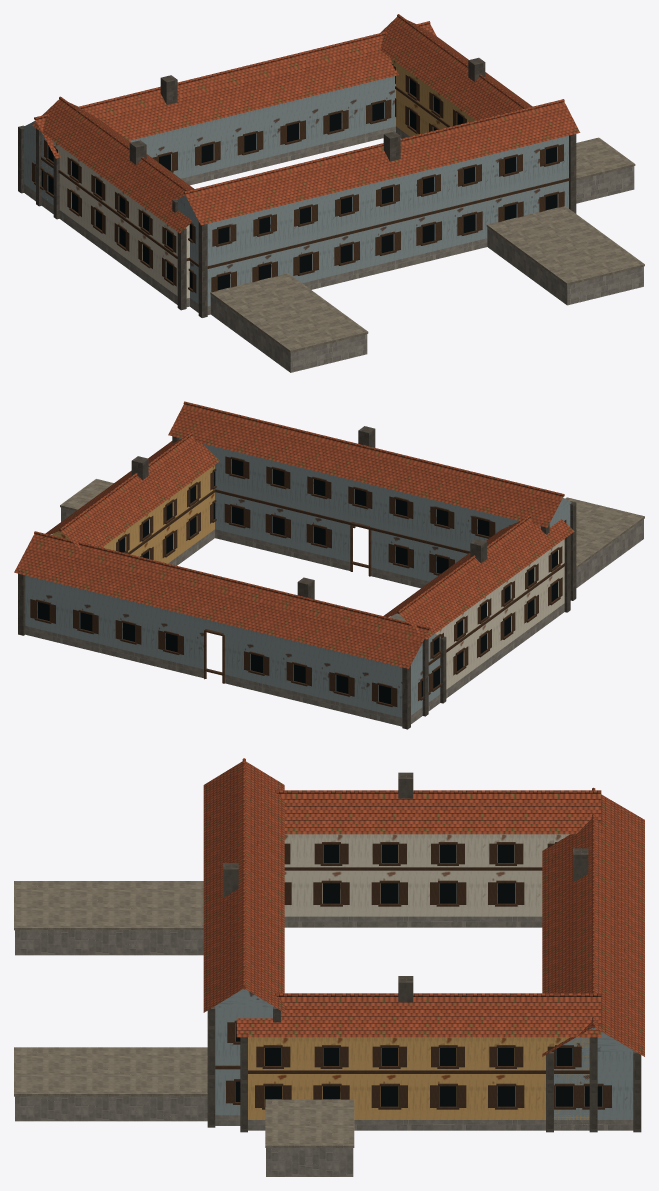
The model's file is SM_Art_HerreraArchiveFort.gltf.
The picture shows the model from 3 angles, top to bottom: view 1: azimuth 30°, elevation 25°; view 2: azimuth 150°, elevation 25°; view 3: azimuth 270°, elevation 25°; orthographic projection. The views are drawn at different scales.
Parts seen in each view (by area): view 1: SM_Art_HerreraArchiveFort; view 2: SM_Art_HerreraArchiveFort; view 3: SM_Art_HerreraArchiveFort.
Boxes of the visible parts, left/top/right/bottom form: SM_Art_HerreraArchiveFort: left=18, top=14, right=644, bottom=372; SM_Art_HerreraArchiveFort: left=14, top=401, right=644, bottom=729; SM_Art_HerreraArchiveFort: left=14, top=758, right=644, bottom=1176.
Size of the model in its own units: 30.39 by 7.93 by 28.89.
9 materials, 8 textured.
